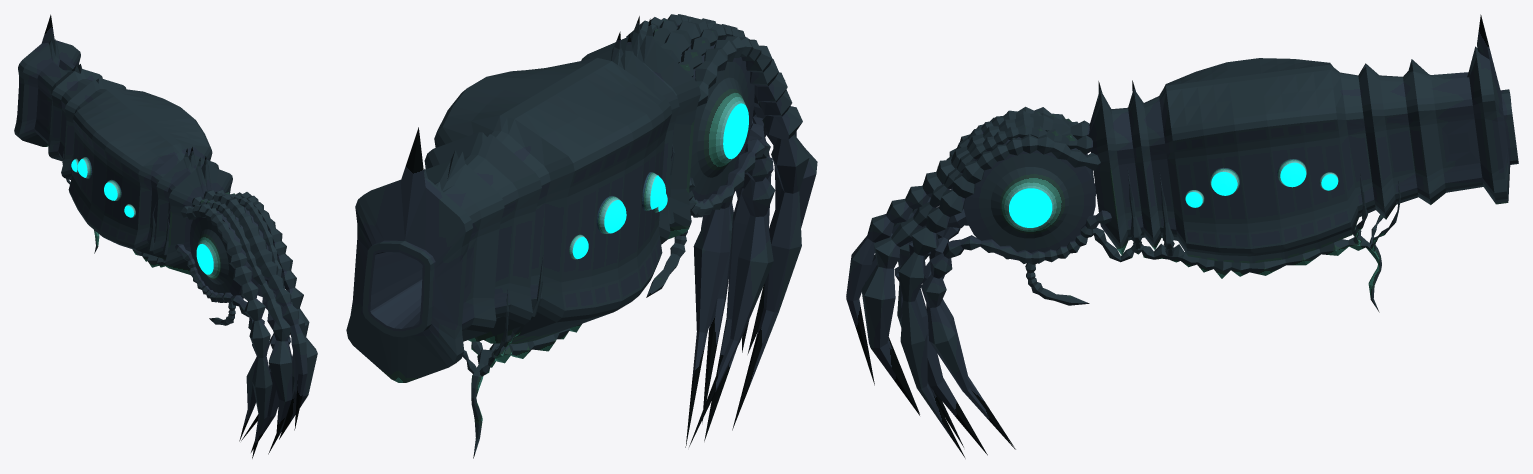
File: remake_419.glb
3 renders of one model, left to right at view 1: azimuth 30°, elevation 25°; view 2: azimuth 150°, elevation 25°; view 3: azimuth 270°, elevation 25°, orthographic. The views are drawn at different scales.
Visible parts, largest first — view 1: remake_419; view 2: remake_419; view 3: remake_419.
Boxes of the visible parts, box(x1,y1,x2,y2) form: remake_419: box(14, 14, 317, 458); remake_419: box(346, 14, 817, 458); remake_419: box(846, 14, 1518, 458).
Size of the model in its own units: 0.1263 by 0.3639 by 0.5171.
2 materials, 1 textured.
